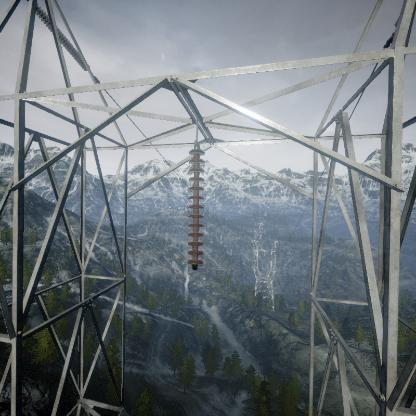insulator: (34, 3, 91, 75), (185, 143, 207, 272)
tower: (251, 237, 279, 313)
